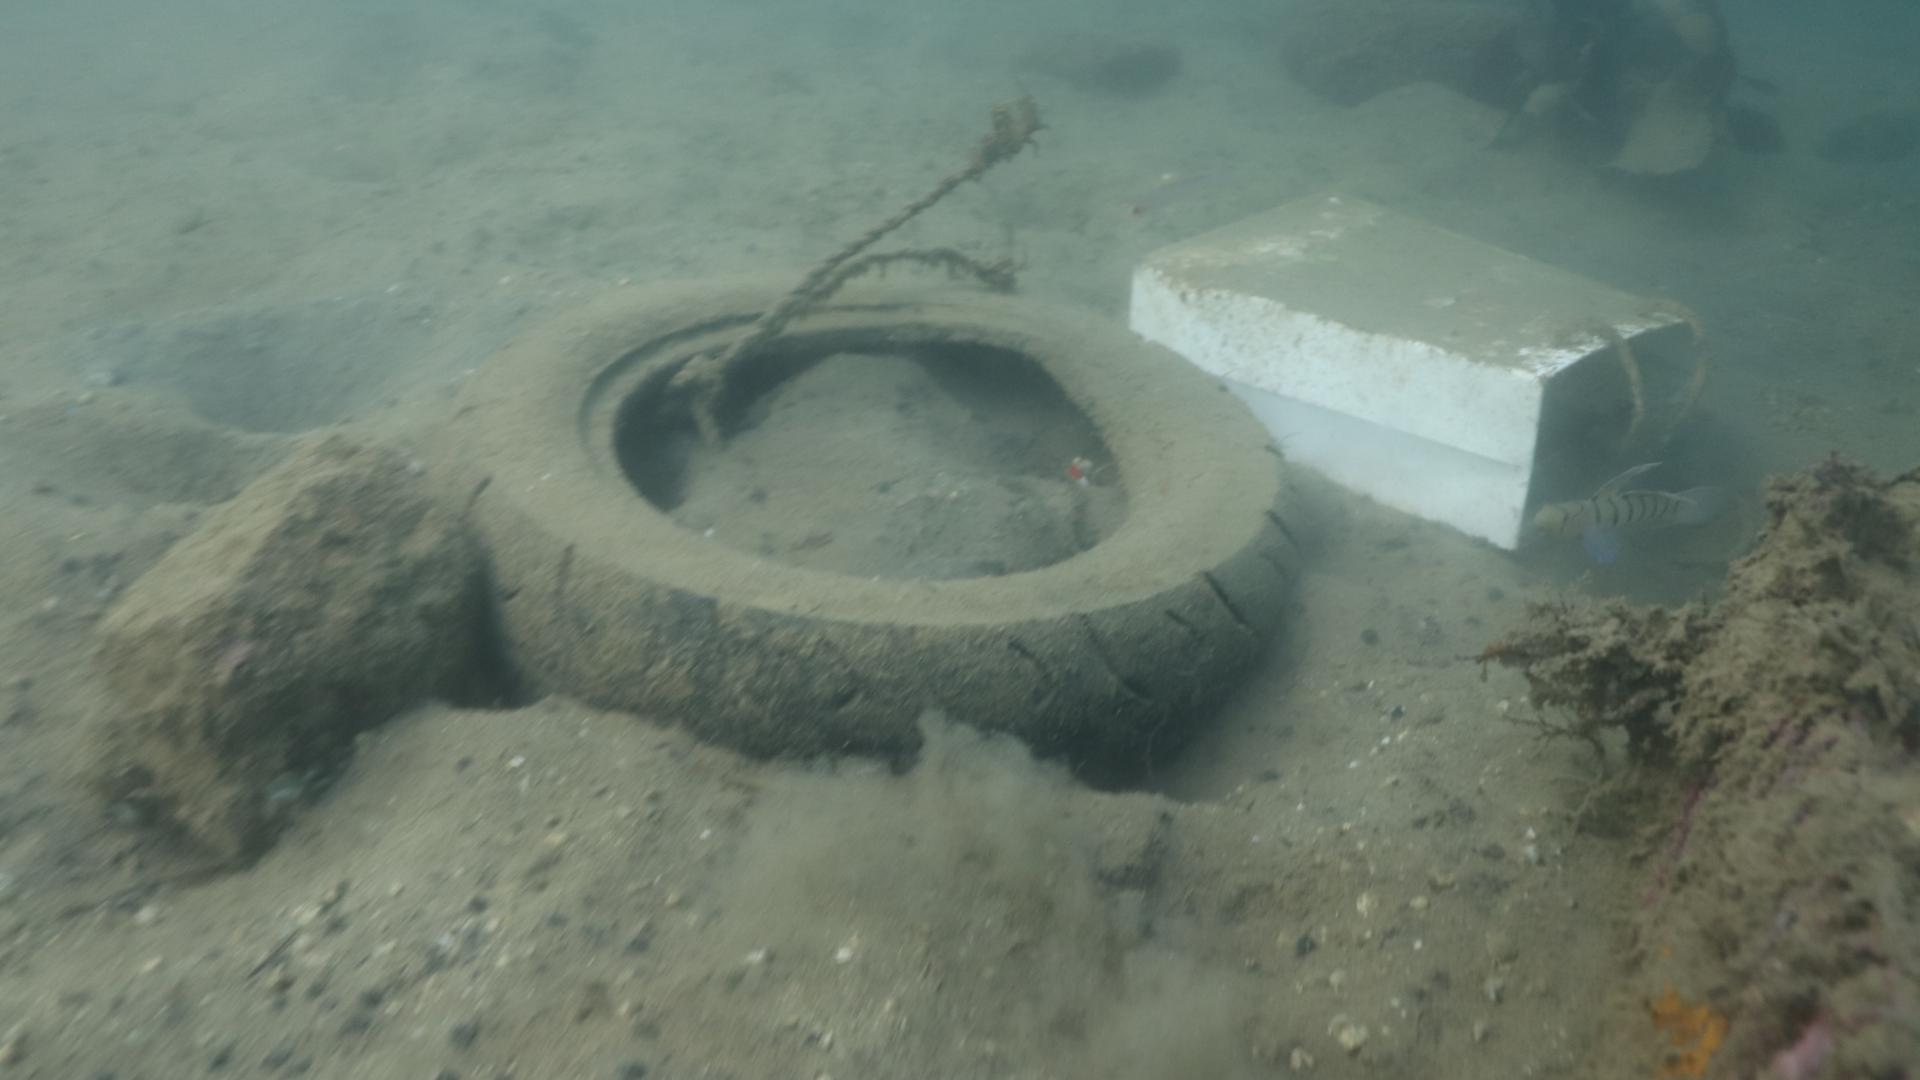bundle of ropes: (662, 160, 984, 454)
tire: (447, 276, 1305, 793)
